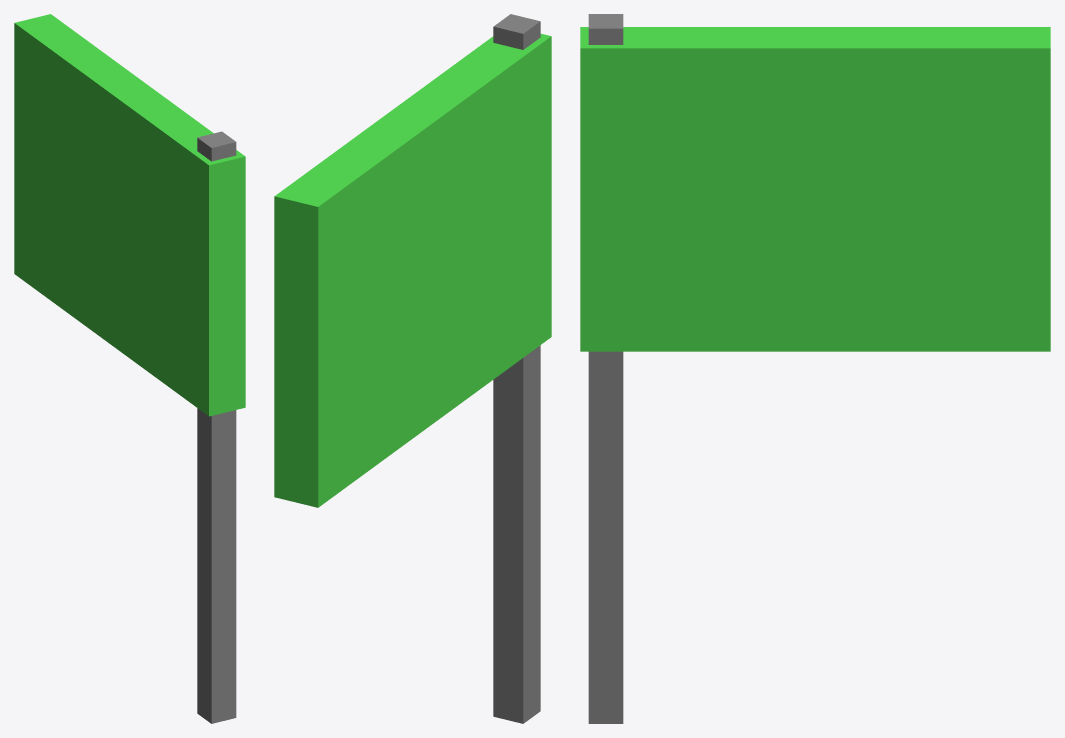
File: Flag.fbx
The picture shows the model from 3 angles, left to right: view 1: azimuth 30°, elevation 25°; view 2: azimuth 150°, elevation 25°; view 3: azimuth 270°, elevation 25°; orthographic projection. The views are drawn at different scales.
Parts seen in each view (by area): view 1: Flag, Pole; view 2: Flag, Pole; view 3: Flag, Pole.
Boxes of the visible parts, x1,y1,x2,y2 form: Flag: [14, 14, 245, 416]; Pole: [197, 131, 236, 723]; Flag: [274, 33, 551, 507]; Pole: [493, 14, 540, 723]; Flag: [580, 27, 1050, 351]; Pole: [588, 14, 623, 723].
Size of the model in its own units: 0.26 by 3.92 by 2.4.
